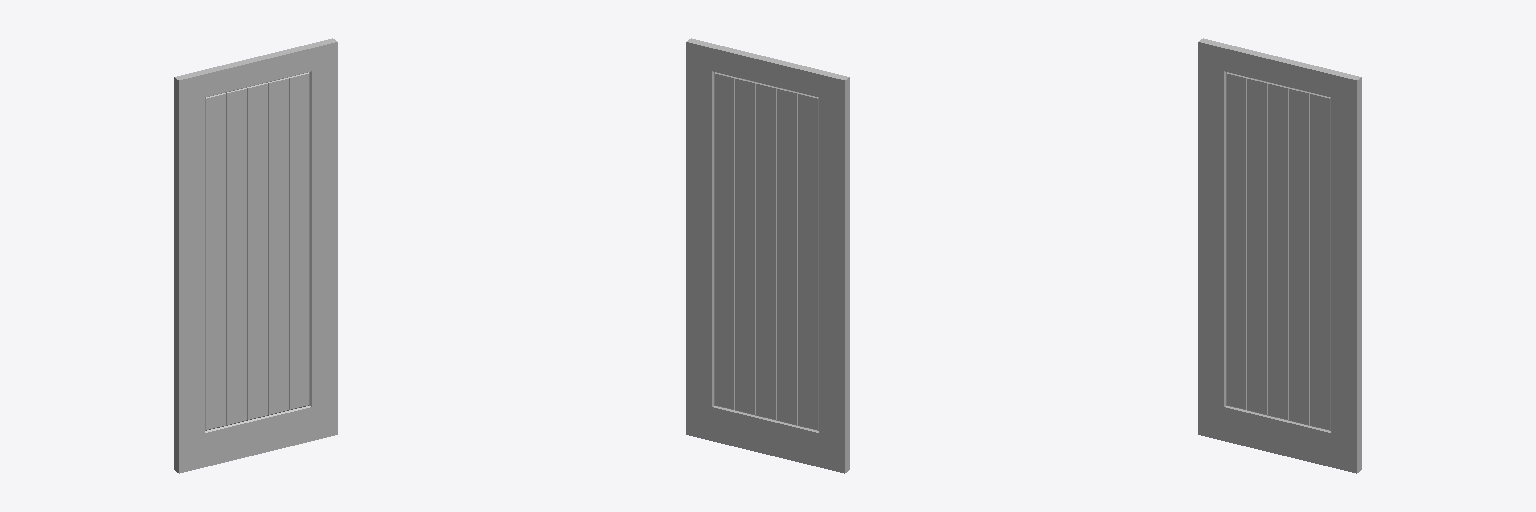
The model's file is door_03.obj.
3 renders of one model, left to right at view 1: azimuth 30°, elevation 25°; view 2: azimuth 150°, elevation 25°; view 3: azimuth 330°, elevation 25°, orthographic.
Visible parts, largest first — view 1: door_03; view 2: door_03; view 3: door_03.
Boxes of the visible parts, x1=… form: door_03: x1=174, y1=38, x2=337, y2=473; door_03: x1=686, y1=38, x2=849, y2=473; door_03: x1=1198, y1=38, x2=1361, y2=473.
Size of the model in its own units: 0.838 by 1.98 by 0.044.